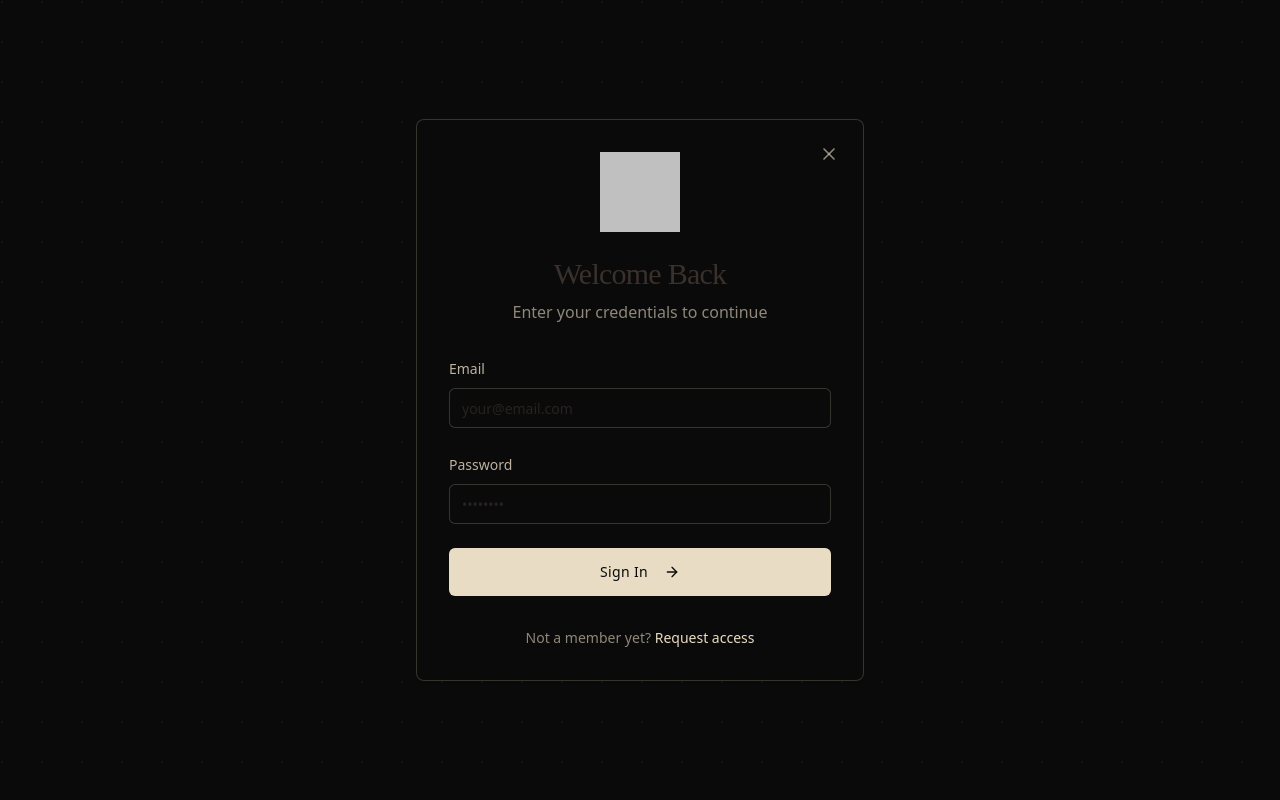
Test: SignInPage › enters the MFA flow, prepares an email code, and shows the verification step
Type "chef@example.com" into the field labelled "Email" at (640, 408), box [449,388,831,428]
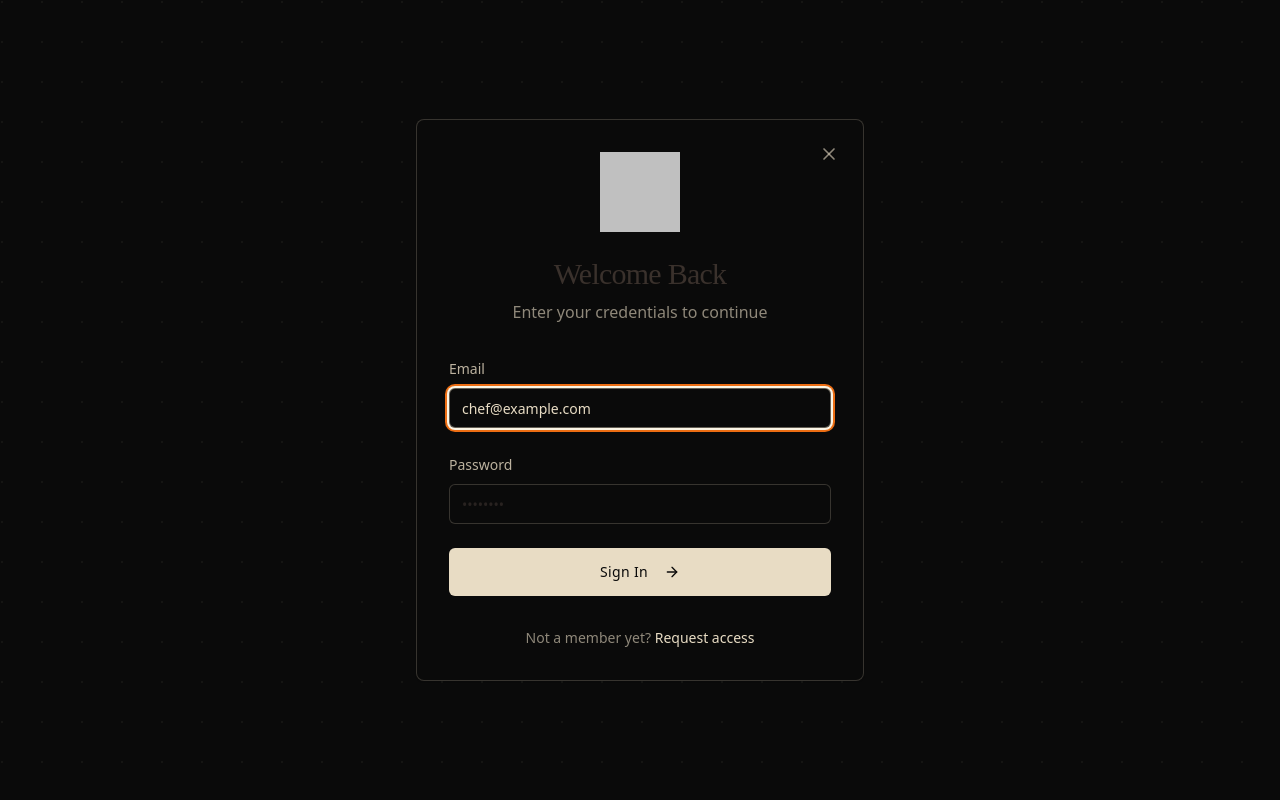
Type "secret123" into the password field labelled "Password" at (640, 504), box [449,484,831,524]
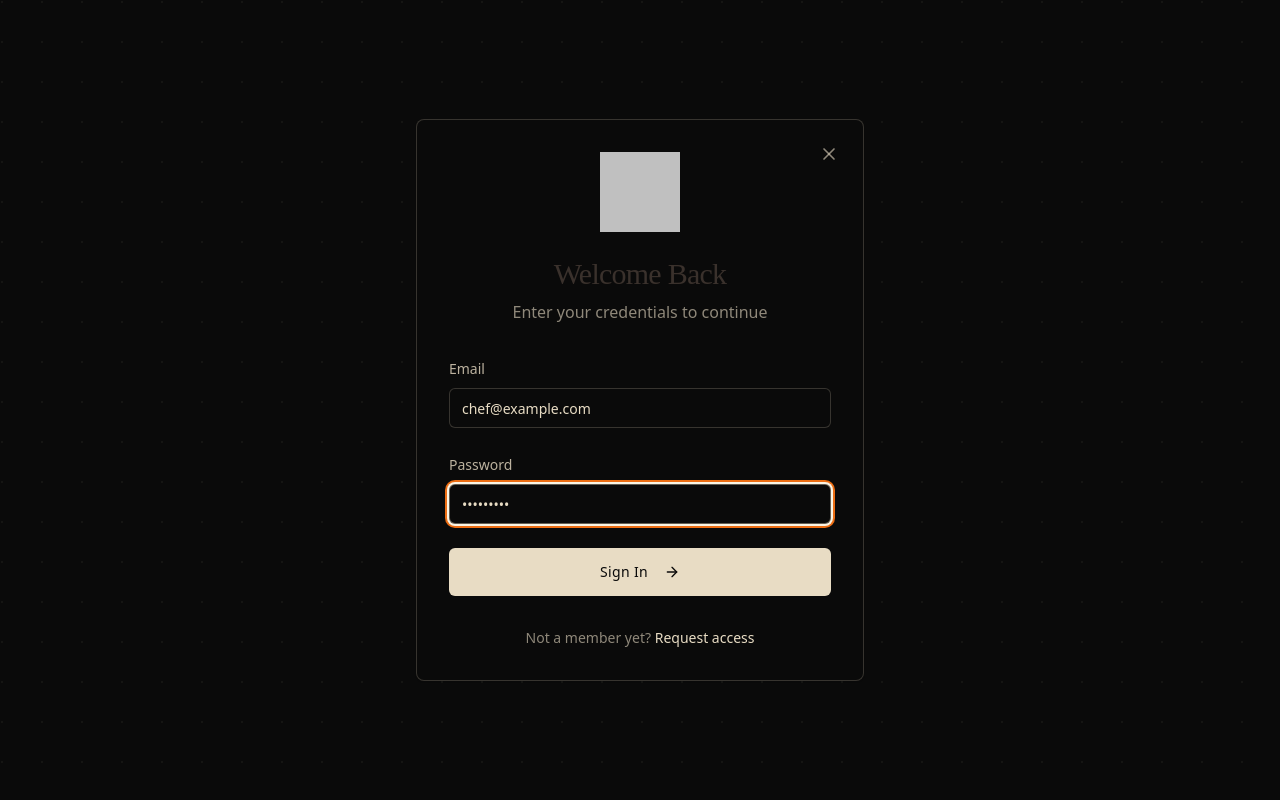
Click the button "Sign In" at (640, 572), box [449,548,831,596]
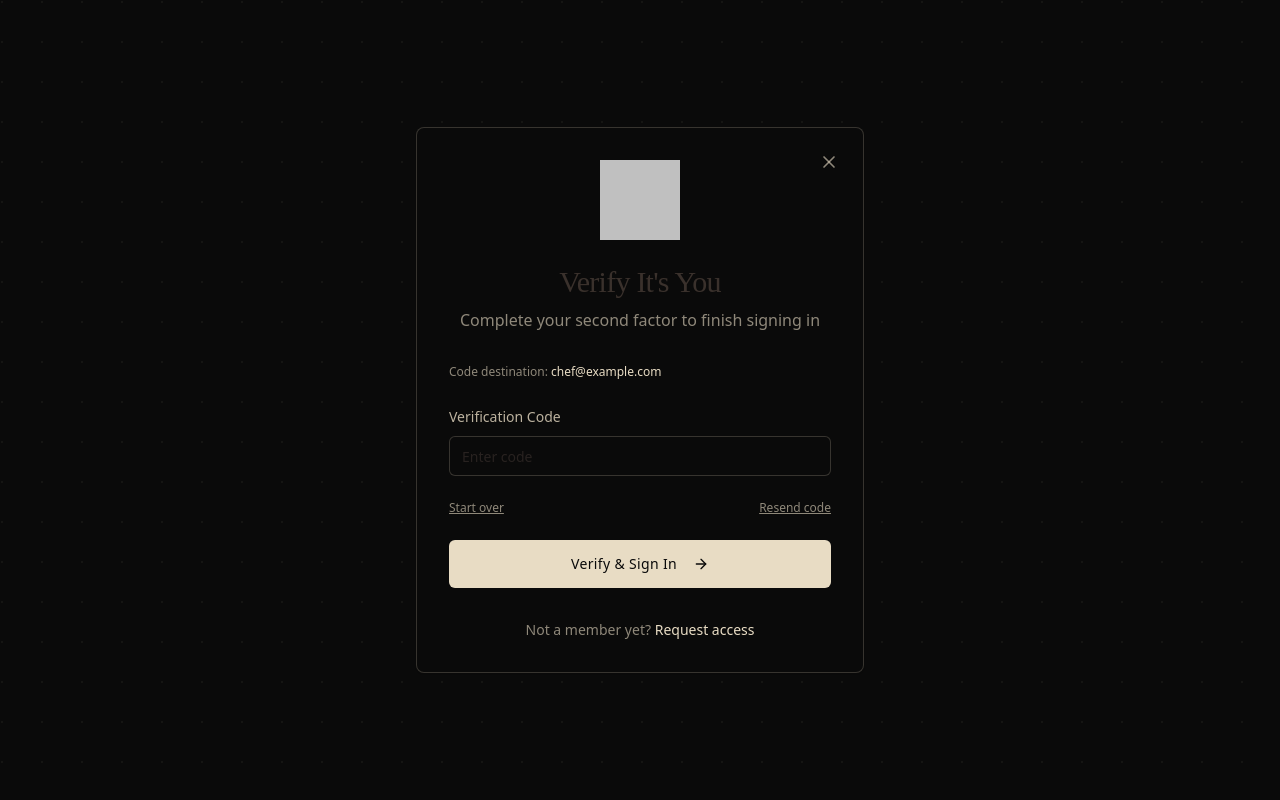
Expected: the field labelled "Verification Code" is shown, [449,436,831,476]
Expected: the text "Code destination: chef@example.com" is shown, [449,363,661,380]
